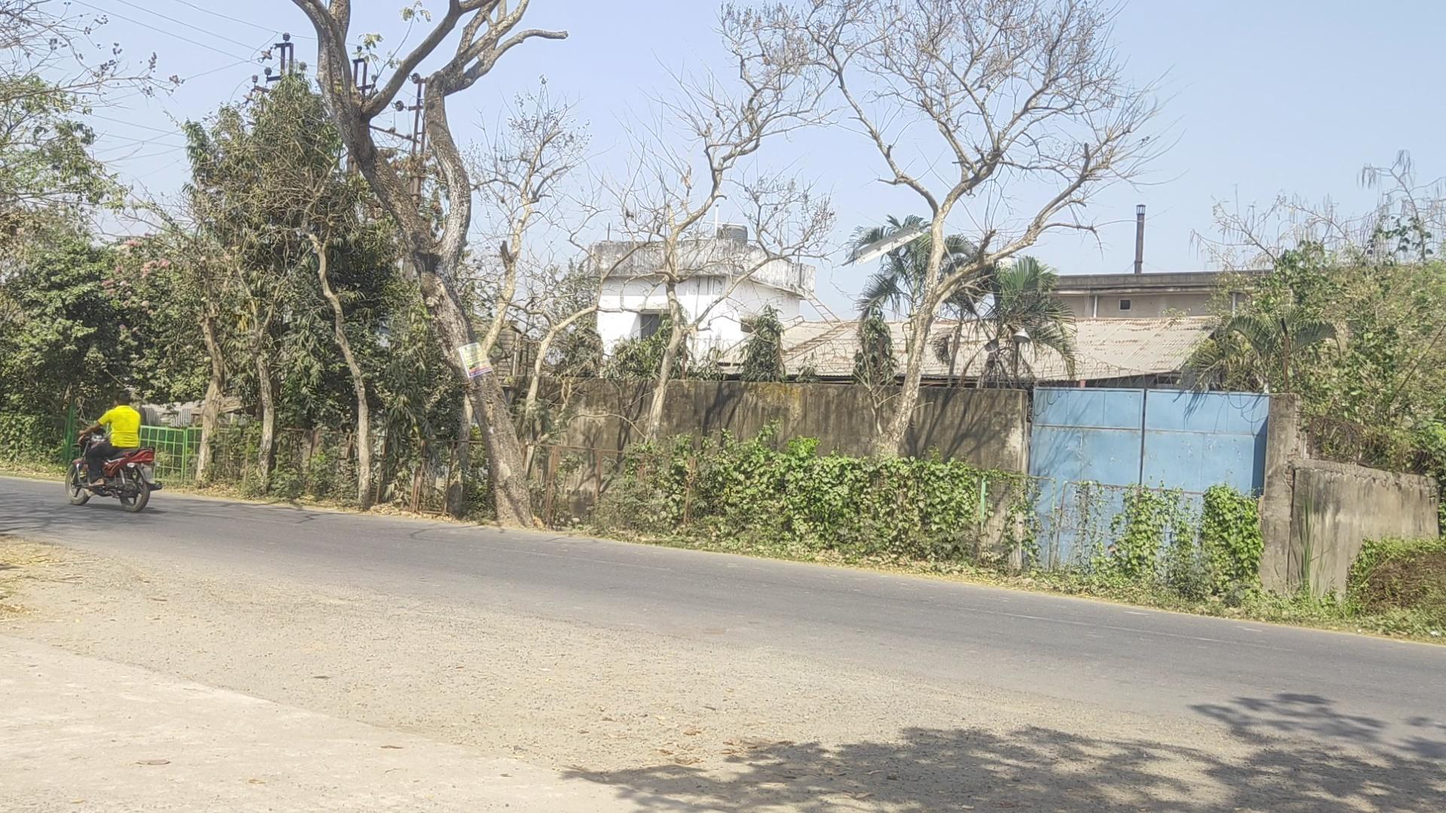bike: (65, 391, 163, 513)
